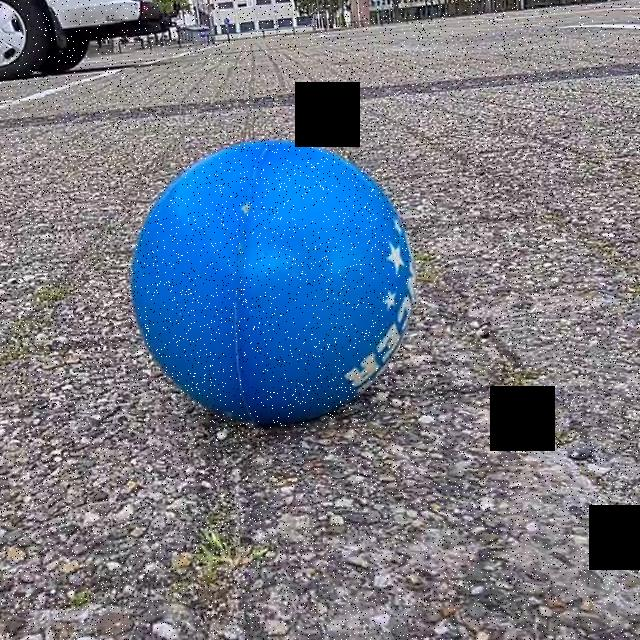ball: (129, 134, 419, 423)
